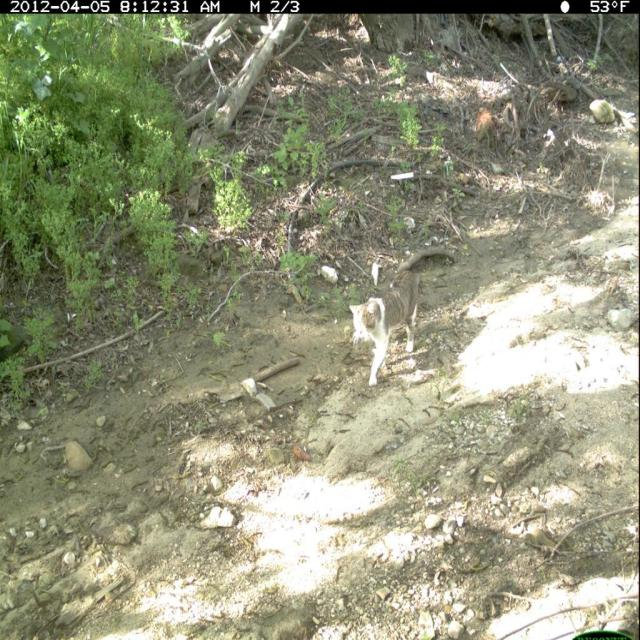cat: (345, 267, 427, 390)
